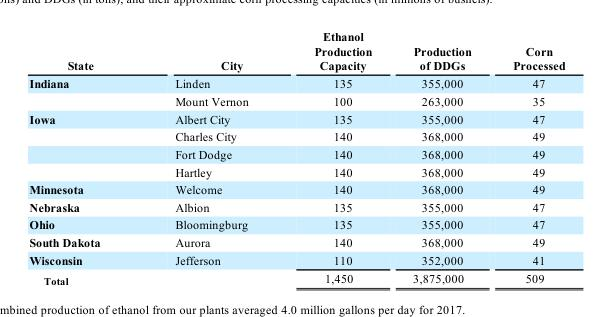table: (28, 29, 564, 286)
table column: (136, 29, 280, 286), (280, 29, 391, 286), (28, 29, 136, 286), (391, 29, 491, 286), (491, 29, 564, 286)
table column header: (28, 29, 564, 74)
table row: (28, 29, 564, 74), (28, 74, 564, 92), (28, 109, 564, 127), (28, 127, 564, 145), (28, 162, 564, 180), (28, 197, 564, 215), (28, 215, 564, 233), (28, 250, 564, 268), (28, 268, 564, 286), (28, 92, 564, 109), (28, 145, 564, 162), (28, 180, 564, 197), (28, 233, 564, 250)
table spanning cell: (28, 109, 136, 180), (28, 74, 136, 109)
